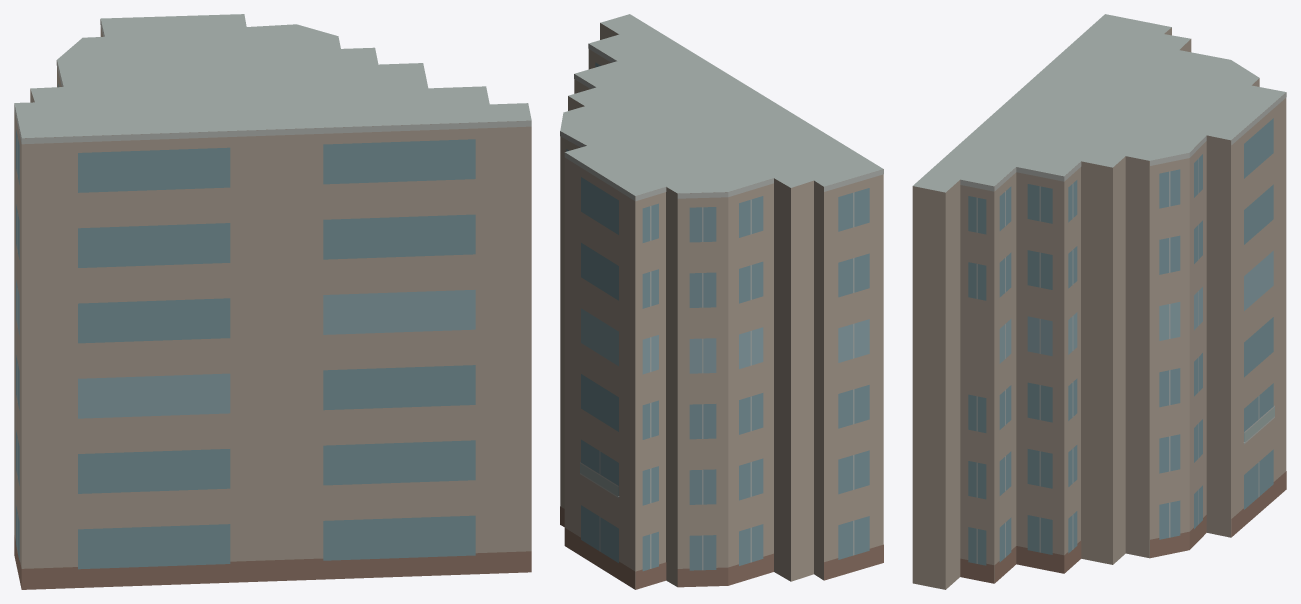
Rendered from survey-upis-32723605.glb.
3 views of the same model, side by side, from view 1: azimuth 30°, elevation 25°; view 2: azimuth 150°, elevation 25°; view 3: azimuth 270°, elevation 25° (orthographic). The views are drawn at different scales.
Parts seen in each view (by area): view 1: survey-upis-32723605.tmp; view 2: survey-upis-32723605.tmp; view 3: survey-upis-32723605.tmp.
Boxes of the visible parts, x1,y1,x2,y2 form: survey-upis-32723605.tmp: (14, 14, 531, 589); survey-upis-32723605.tmp: (560, 14, 883, 589); survey-upis-32723605.tmp: (912, 14, 1286, 589).
Bounding box in the file's own units: 17.64 × 18.3 × 15.61.
